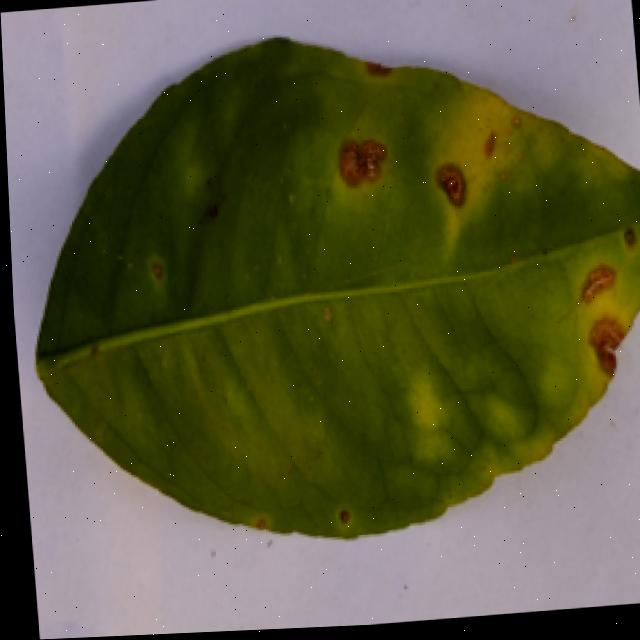canker: (36, 39, 640, 538), (311, 26, 501, 221), (550, 226, 640, 376)
